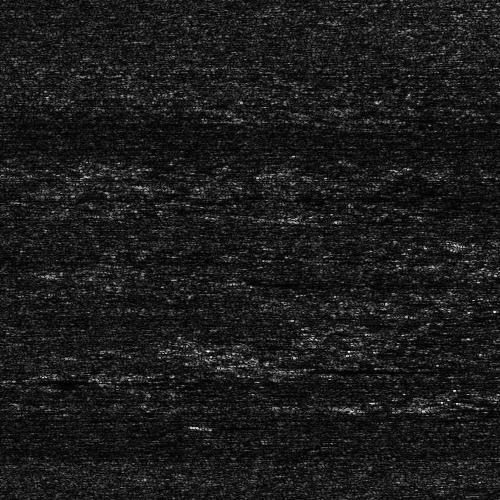object: (230, 362, 375, 375)
shadow: (303, 362, 466, 375), (0, 149, 19, 158)
